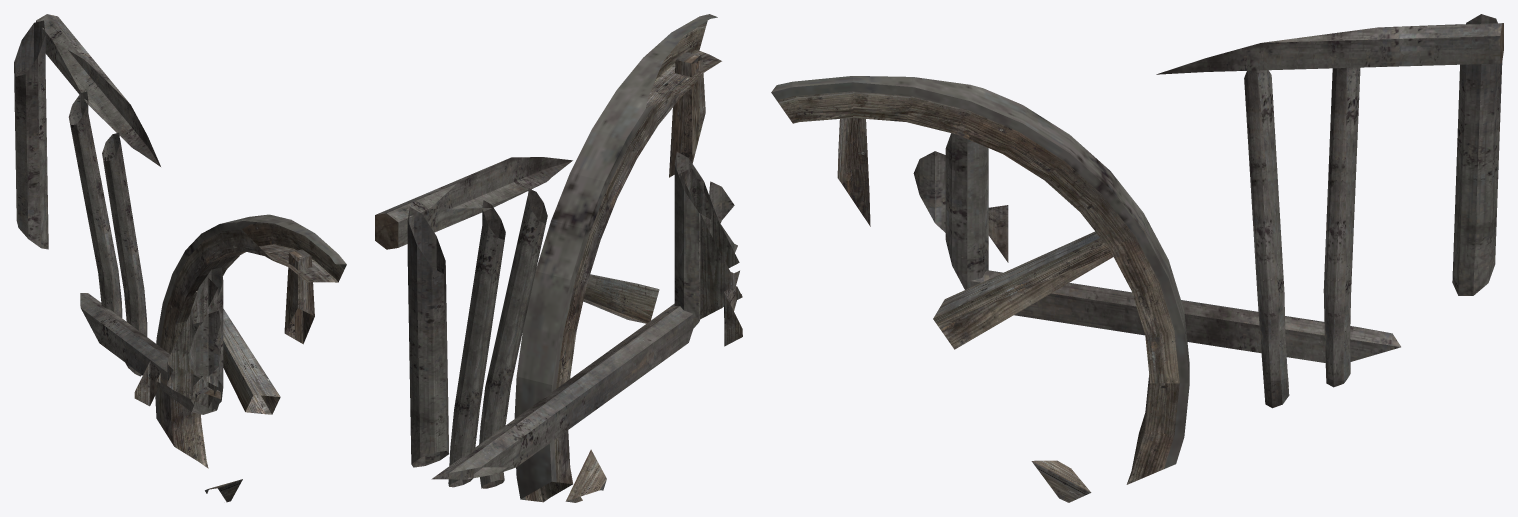
Rendered from Wagon3_9.fbx.
3 renders of one model, left to right at view 1: azimuth 30°, elevation 25°; view 2: azimuth 150°, elevation 25°; view 3: azimuth 270°, elevation 25°, orthographic. The views are drawn at different scales.
Visible parts, largest first — view 1: SM_Wagon03_DM.009; view 2: SM_Wagon03_DM.009; view 3: SM_Wagon03_DM.009.
Part boxes in pixels (x1,y1,x2,y2): SM_Wagon03_DM.009: (14,14,346,502); SM_Wagon03_DM.009: (375,14,742,502); SM_Wagon03_DM.009: (771,14,1503,502).
Bounding box in the file's own units: 3259 × 9586 × 13402.
